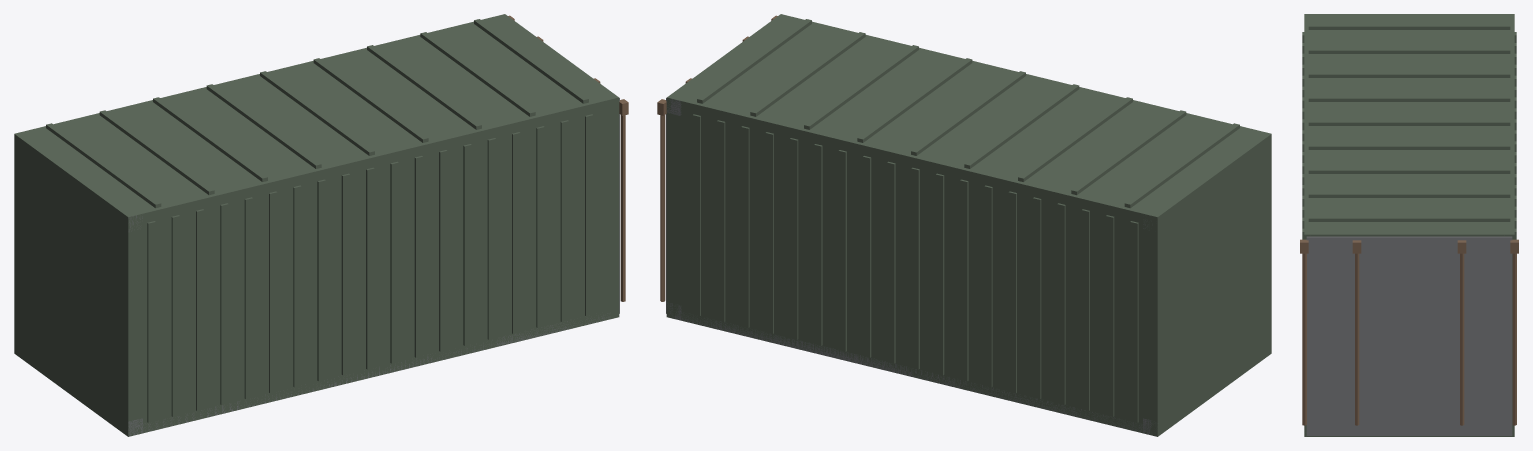
Rendered from container_green.glb.
3 renders of one model, left to right at view 1: azimuth 30°, elevation 25°; view 2: azimuth 150°, elevation 25°; view 3: azimuth 270°, elevation 25°, orthographic. The views are drawn at different scales.
Visible parts, largest first — view 1: container_green.001; view 2: container_green.001; view 3: container_green.001.
Part boxes in pixels (bbox=[...]): container_green.001: bbox=[14, 14, 628, 436]; container_green.001: bbox=[657, 14, 1271, 436]; container_green.001: bbox=[1300, 14, 1518, 436].
Size of the model in its own units: 6.15 by 2.63 by 2.54.
